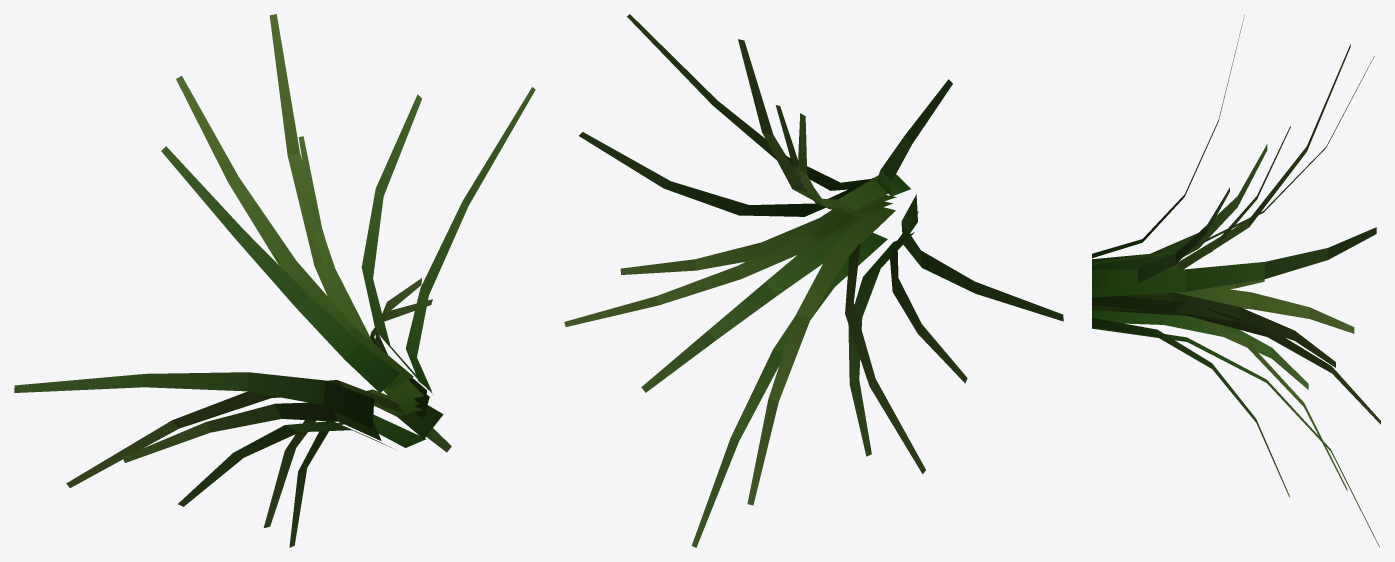
Rendered from Grass_Patch_Meadow.glb.
The picture shows the model from 3 angles, left to right: view 1: azimuth 30°, elevation 25°; view 2: azimuth 150°, elevation 25°; view 3: azimuth 270°, elevation 25°; orthographic projection. The views are drawn at different scales.
Visible parts, largest first — view 1: Grass_Patch_Meadow; view 2: Grass_Patch_Meadow; view 3: Grass_Patch_Meadow.
Part boxes in pixels (<box>): Grass_Patch_Meadow: <box>14,14,535,547</box>; Grass_Patch_Meadow: <box>564,14,1063,547</box>; Grass_Patch_Meadow: <box>1092,15,1380,547</box>.
Bounding box in the file's own units: 0.4667 × 0.4932 × 0.2646.
